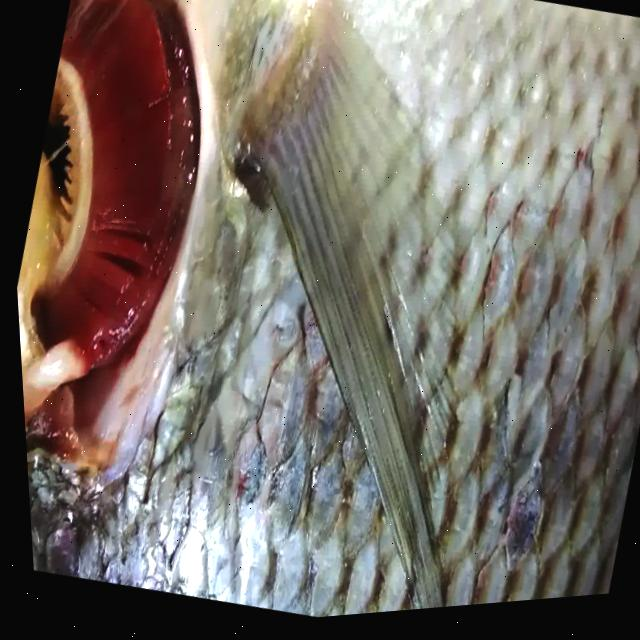Fresh: (0, 0, 264, 424)
